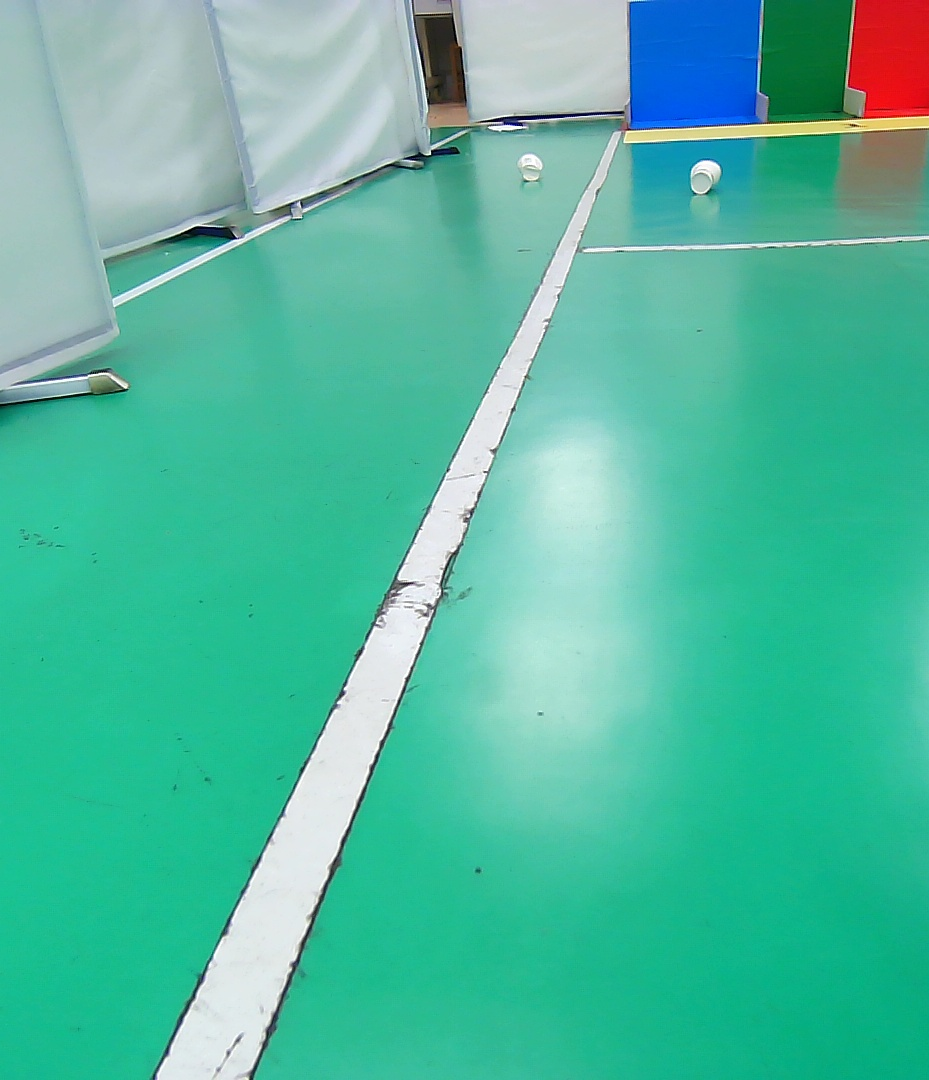papercup: (684, 157, 723, 198), (514, 151, 546, 185)
